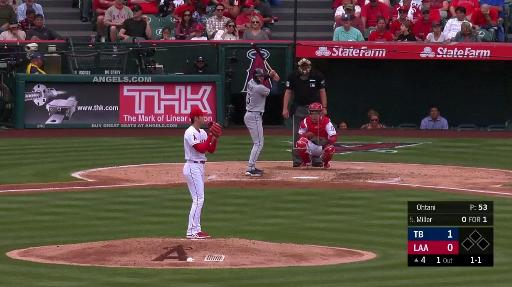pitcher: (184, 109, 223, 240)
